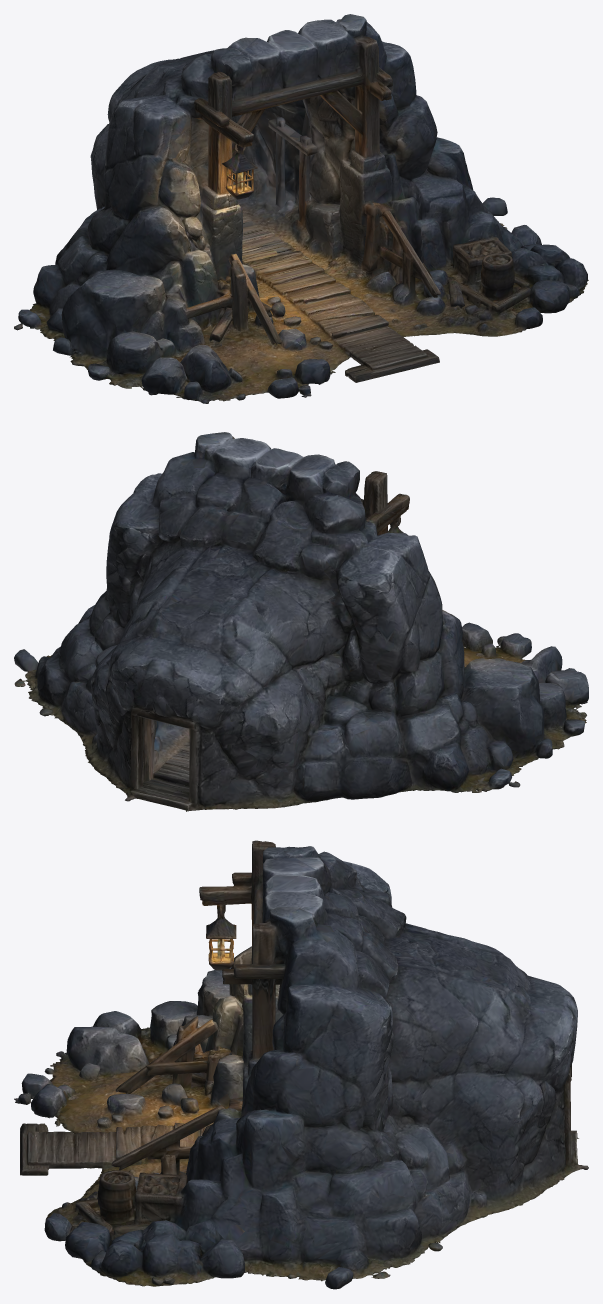
File: Lantern_Gate_to_the_S.glb
3 renders of one model, top to bottom at view 1: azimuth 30°, elevation 25°; view 2: azimuth 150°, elevation 25°; view 3: azimuth 270°, elevation 25°, orthographic. The views are drawn at different scales.
Visible parts, largest first — view 1: Lantern_Gate_to_the_S; view 2: Lantern_Gate_to_the_S; view 3: Lantern_Gate_to_the_S.
Part boxes in pixels (x1,y1,x2,y2): Lantern_Gate_to_the_S: (14,14,588,403); Lantern_Gate_to_the_S: (14,432,588,811); Lantern_Gate_to_the_S: (14,840,588,1289).
Size of the model in its own units: 1.88 by 0.9035 by 1.68.
Materials: 1 (1 with a texture image).
